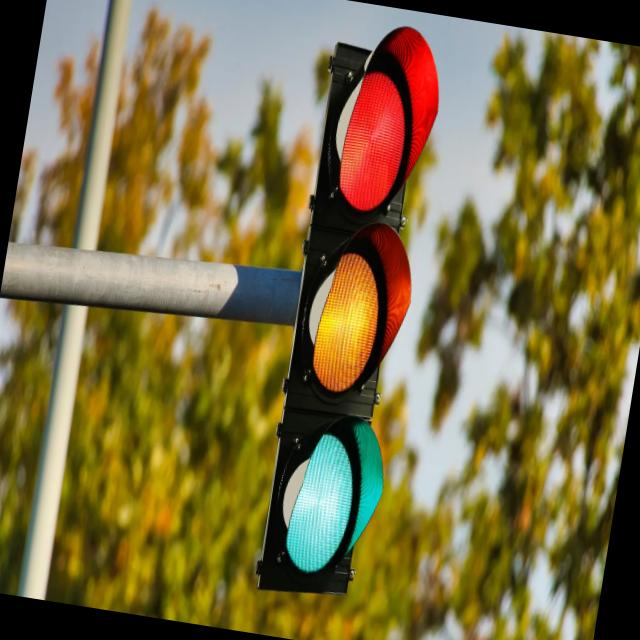green-lights: (282, 428, 361, 581)
red-lights: (332, 64, 416, 216)
yellow-lights: (308, 246, 389, 399)
